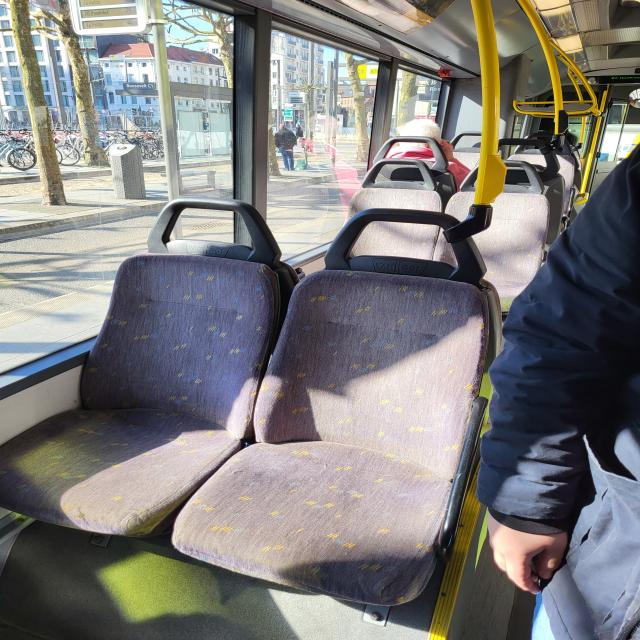empty-seat-frontal: (168, 204, 511, 606), (0, 186, 299, 540), (430, 162, 555, 336)
